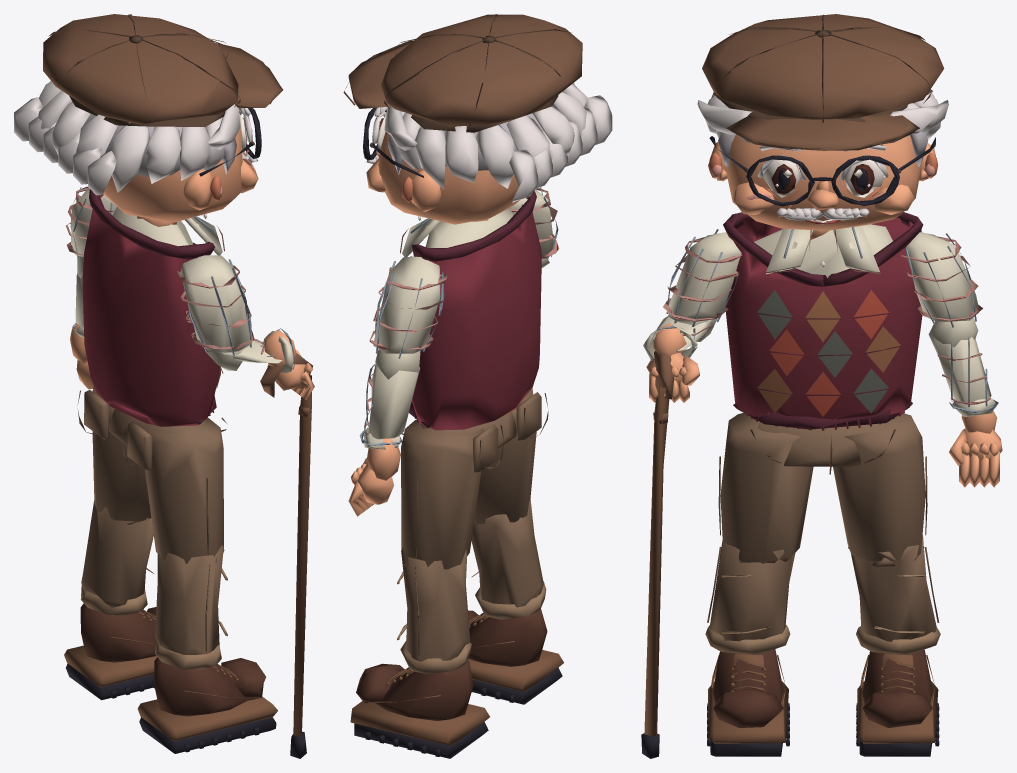
3 renders of one model, left to right at view 1: azimuth 30°, elevation 25°; view 2: azimuth 150°, elevation 25°; view 3: azimuth 270°, elevation 25°, orthographic.
Visible parts, largest first — view 1: head, torso, footR, legR, shinR, footL, shinL, handR, armR, legL, hip, foreArmR (+3 smaller); view 2: head, torso, footL, legL, shinL, footR, shinR, armL, foreArmL, legR, hip, handL (+1 smaller); view 3: head, torso, legR, legL, footL, footR, shinR, handR, shinL, armR, armL, foreArmL (+3 smaller).
Part boxes in pixels (x1,y1,x2,y2): head: (14,14,283,226); torso: (82,189,224,426); footR: (137,657,277,753); legR: (142,417,224,563); shinR: (155,545,227,669); footL: (64,603,156,700); shinL: (80,500,153,615); handR: (260,330,314,758); armR: (177,255,254,355); legL: (92,386,151,521); hip: (77,390,226,471); foreArmR: (206,328,295,372); head: (343,14,612,224); torso: (400,190,541,430); footL: (350,660,489,758); legL: (401,419,483,569); shinL: (397,547,471,674); footR: (468,609,563,704); shinR: (471,498,546,619); armL: (369,256,448,358); foreArmL: (359,349,420,449); legR: (474,387,536,523); hip: (401,392,548,472); handL: (348,438,400,516); head: (697,14,948,239); torso: (723,212,923,430); legR: (718,413,813,563); legL: (833,413,927,561); footL: (856,649,939,756); footR: (707,649,789,756); shinR: (705,540,795,654); handR: (641,323,699,758); shinL: (848,535,940,654); armR: (663,229,744,326); armL: (897,230,982,327); foreArmL: (928,317,998,416).
Size of the model in its own units: 0.5788 by 1.78 by 0.8497.
